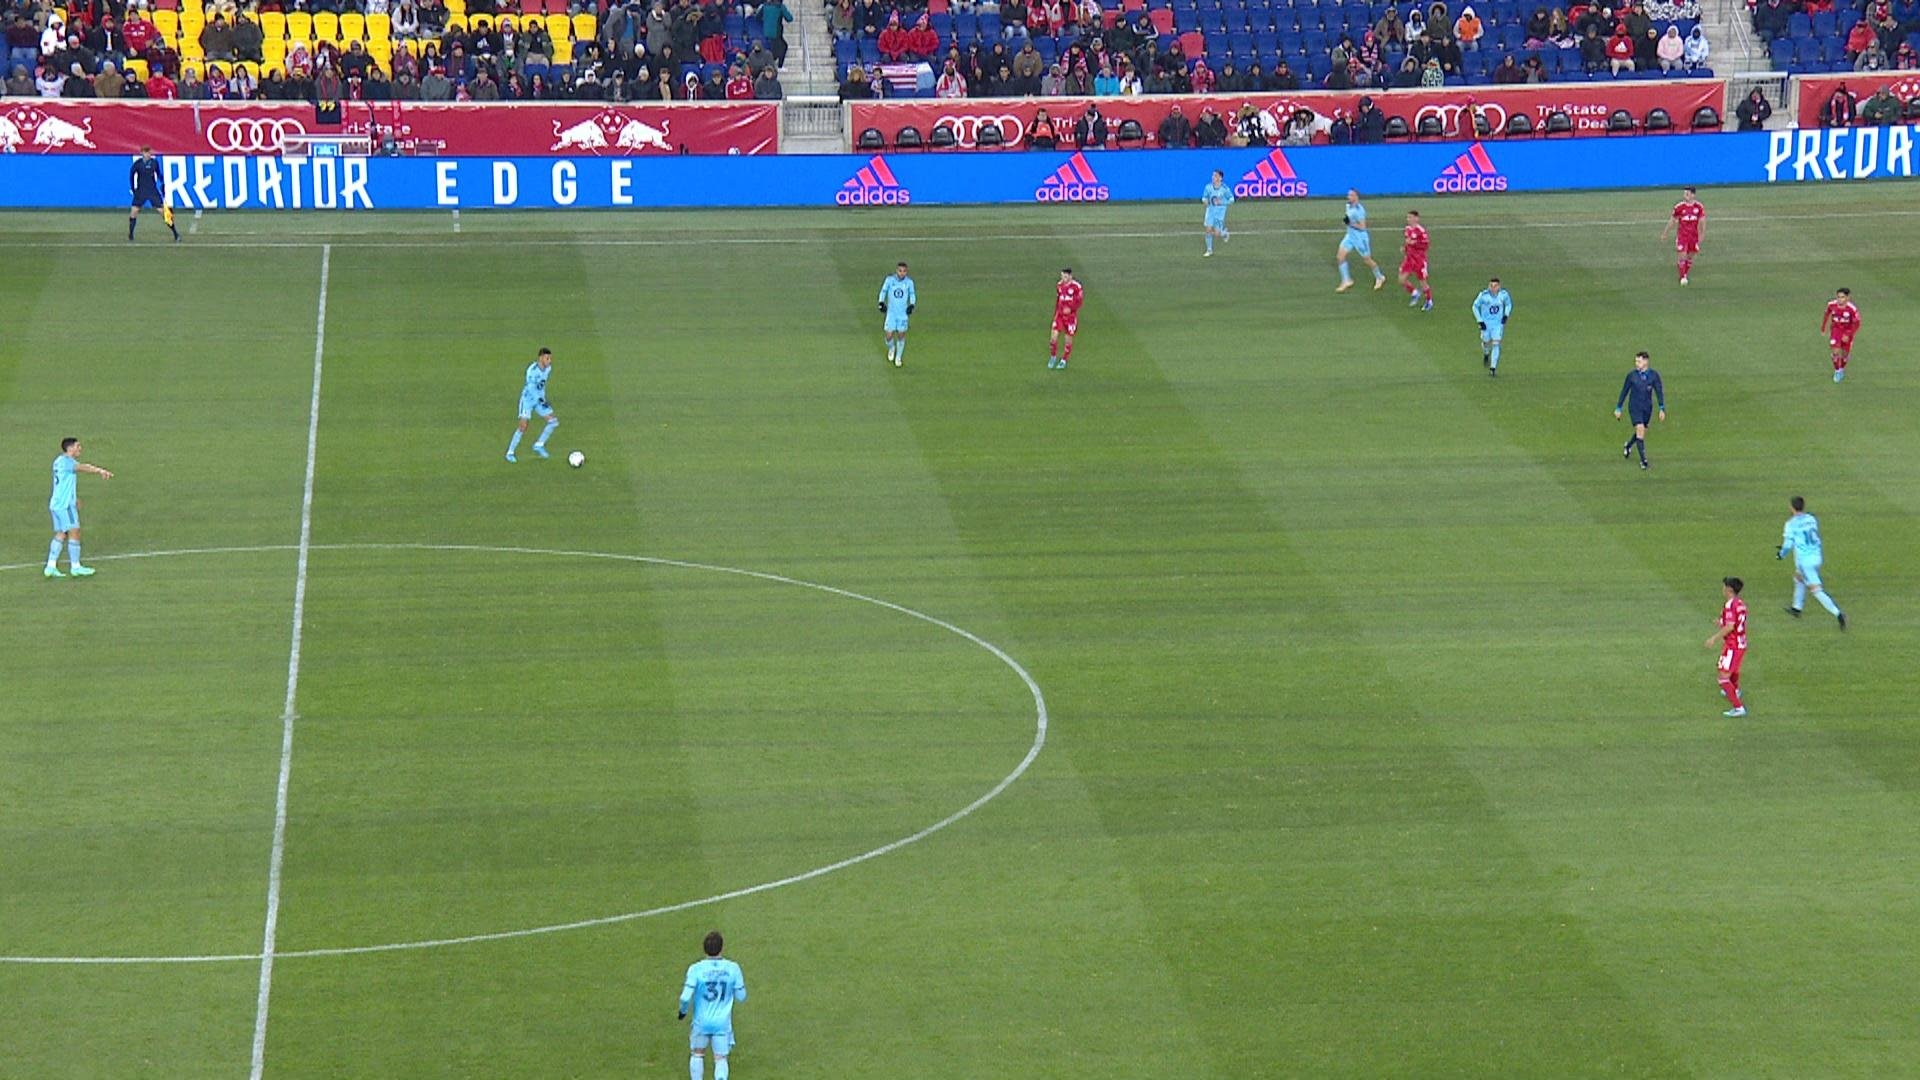football: (567, 448, 587, 470)
